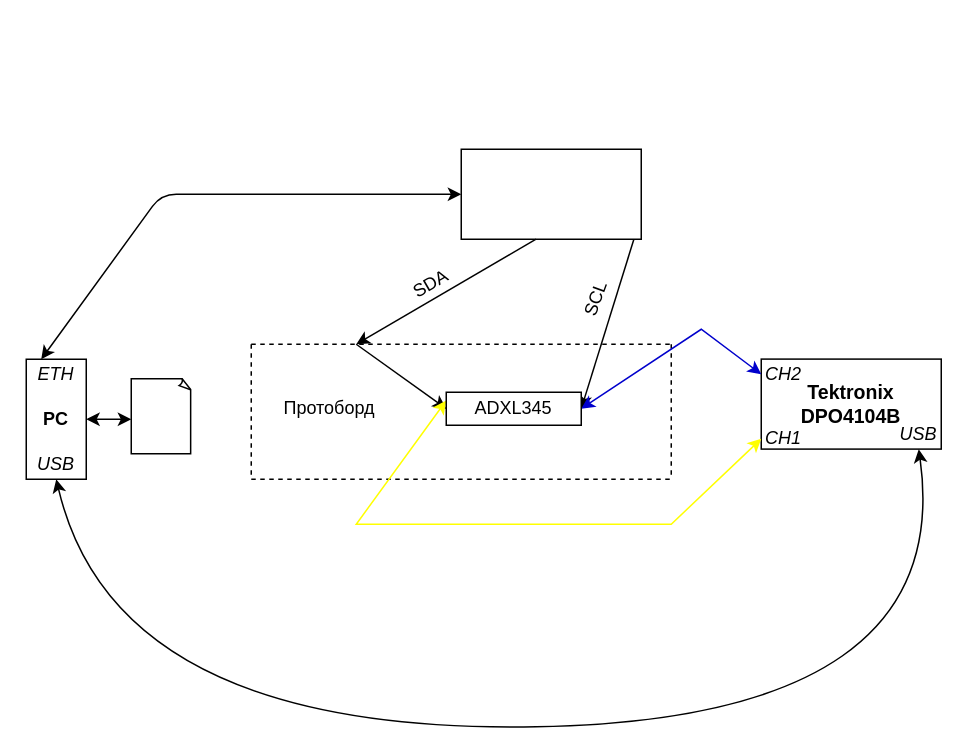
Some shapes in this 968 by 755 pixel diagram are drawn without their labels. Each missing label, with the centre of its shape:
main.py: the point at 160,415
Raspberry Pi 1: the point at 550,193
